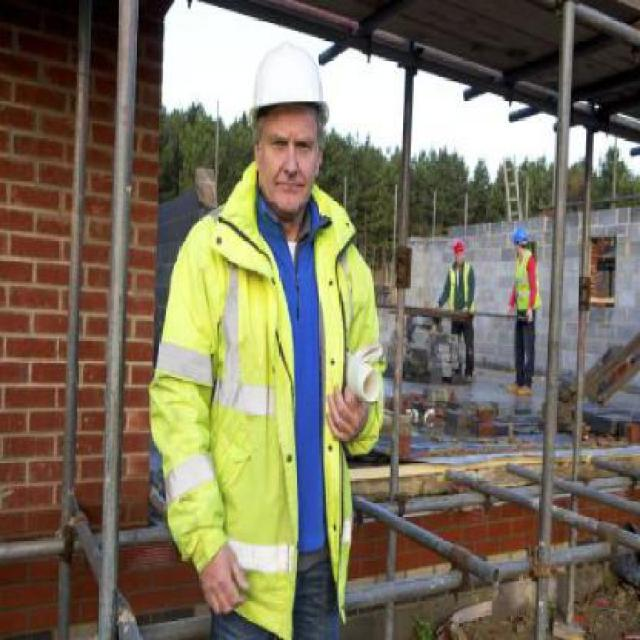safetyhelmet: (225, 51, 361, 223)
